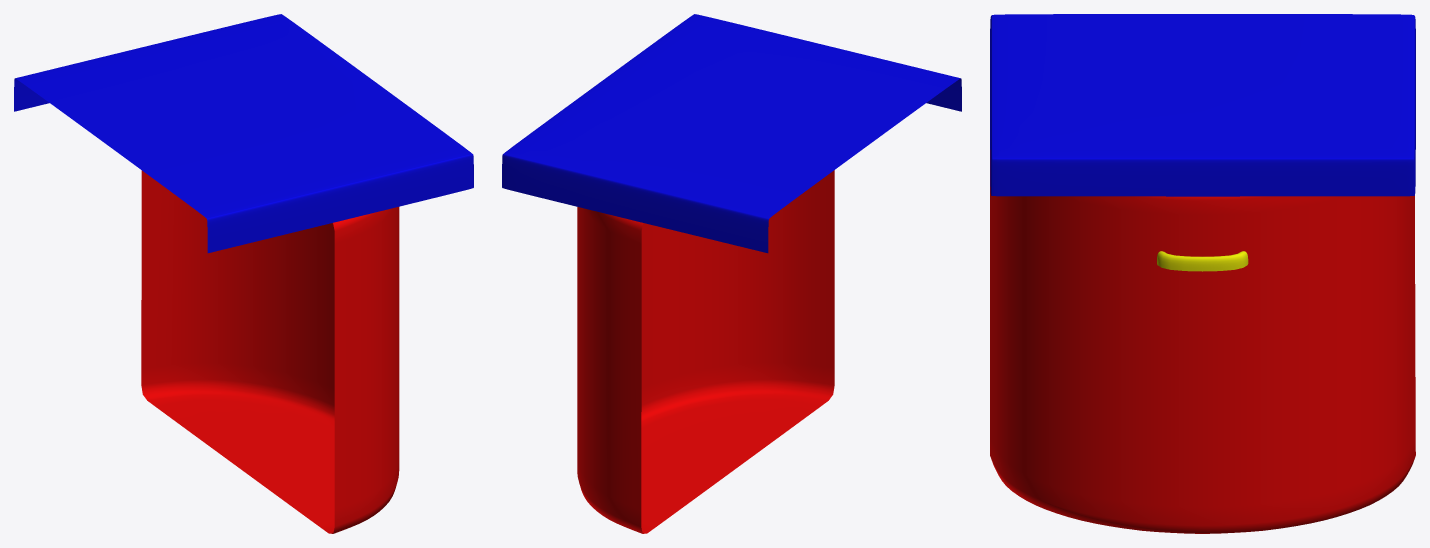
Rendered from Küchentheke_3_gerade_high.fbx.
3 renders of one model, left to right at view 1: azimuth 30°, elevation 25°; view 2: azimuth 150°, elevation 25°; view 3: azimuth 270°, elevation 25°, orthographic. The views are drawn at different scales.
Parts seen in each view (by area): view 1: Küchentheke_3_gerade_high; view 2: Küchentheke_3_gerade_high; view 3: Küchentheke_3_gerade_high.
Boxes of the visible parts, box(x1,y1,x2,y2) form: Küchentheke_3_gerade_high: box(14, 14, 473, 533); Küchentheke_3_gerade_high: box(502, 14, 961, 533); Küchentheke_3_gerade_high: box(990, 14, 1415, 533).
Bounding box in the file's own units: 0.8003 × 0.9999 × 1.
